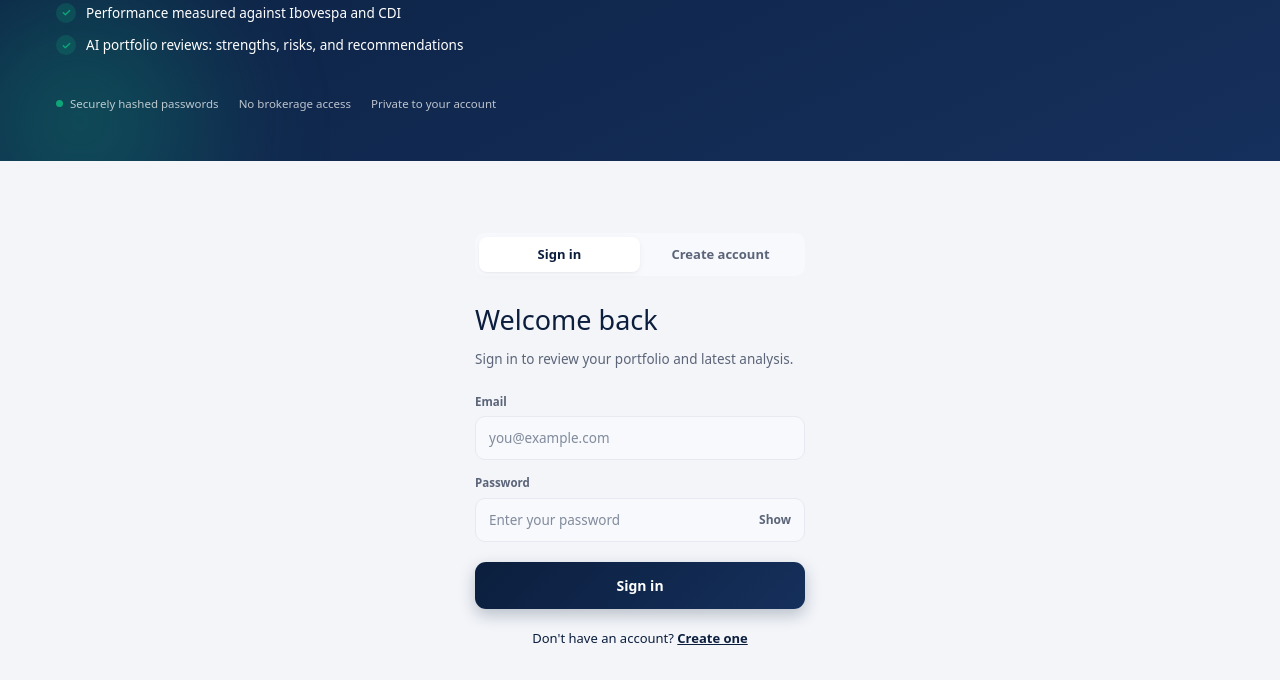
AuthScreen mode switching › switching to Create account keeps the typed values, clears errors, and replaces the URL in place
(page scrolled)
Type "ana@" into the field labelled "Email". click: (640, 438)
box: [475, 416, 805, 460]
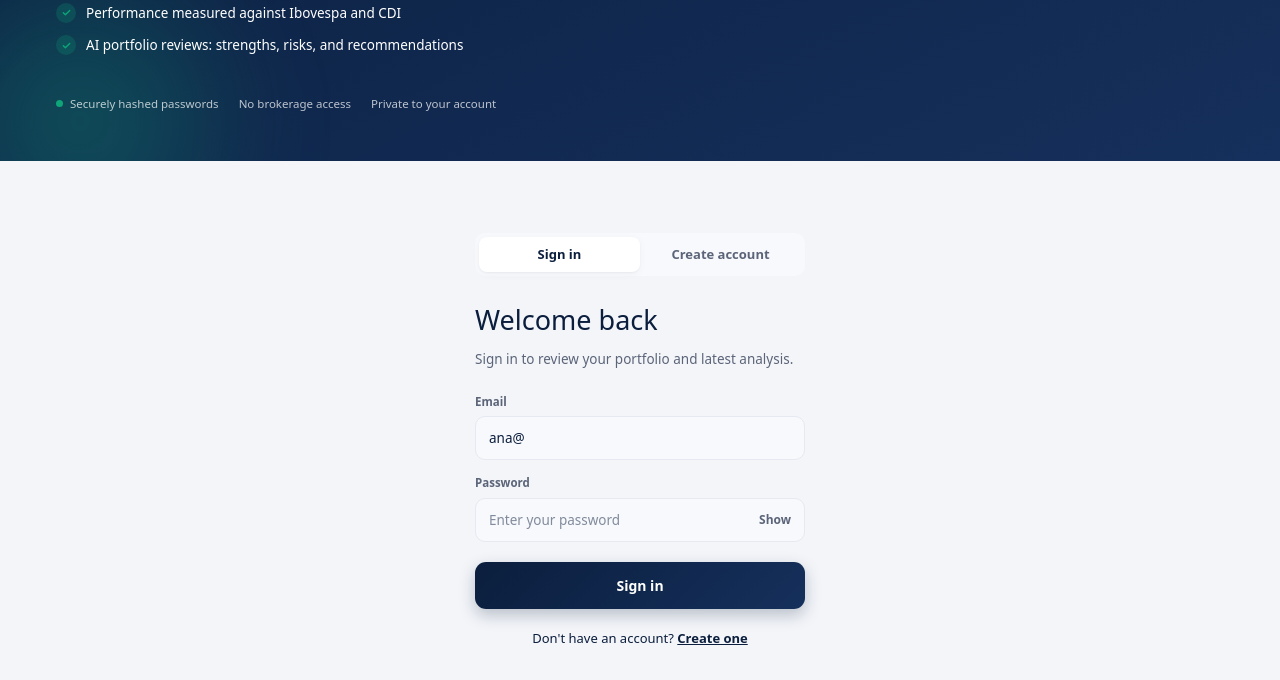
Type "secret123" into the password field labelled "Password". click: (640, 520)
box: [475, 498, 805, 542]
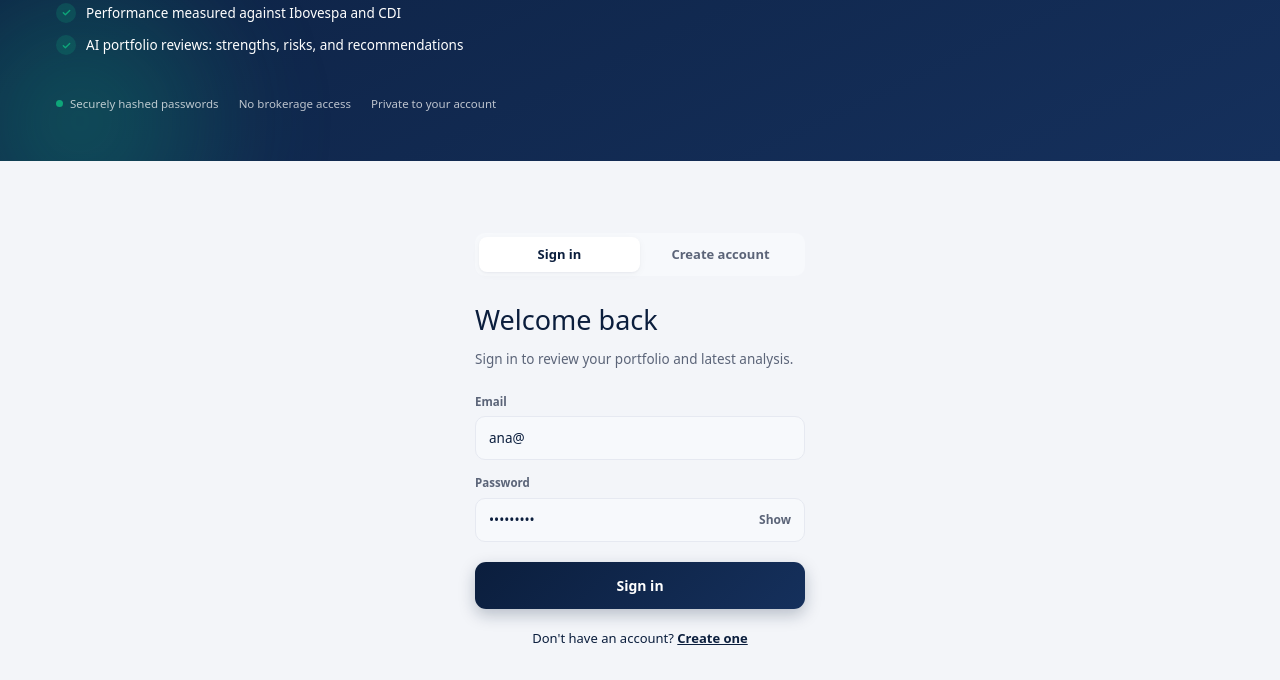
Click the button "Sign in" below "Email". click: (640, 585)
box: [475, 562, 805, 609]
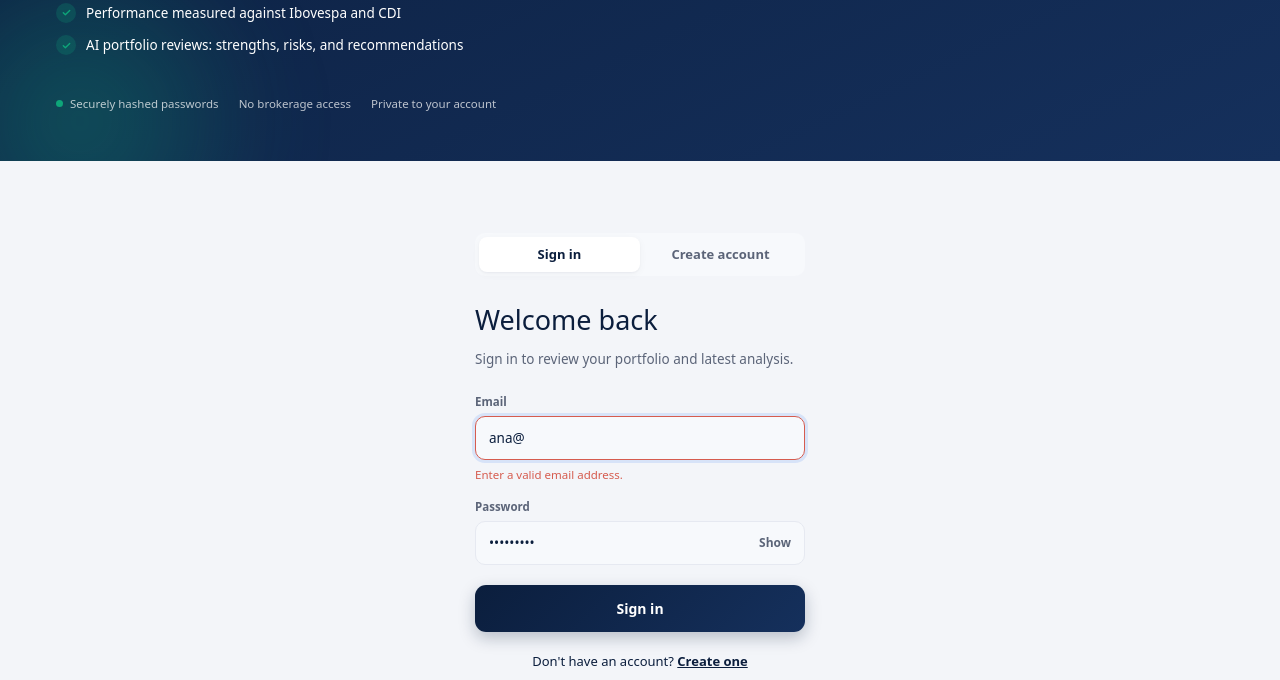
Expected: the text "Enter a valid email address." is shown, [475, 467, 623, 482]
Click the button "Create account". click: (720, 254)
box: [640, 237, 801, 272]
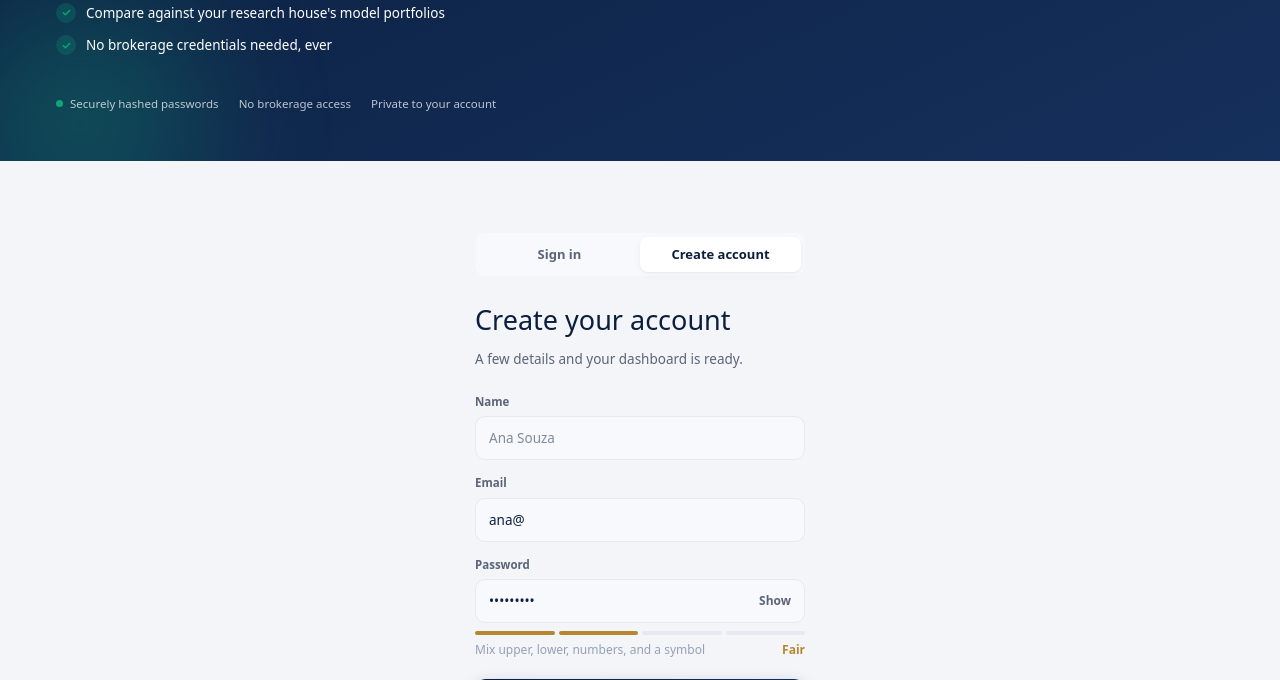
Expected: the field labelled "Name" is shown, [475, 416, 805, 460]
Expected: the text "Enter a valid email address." is gone
